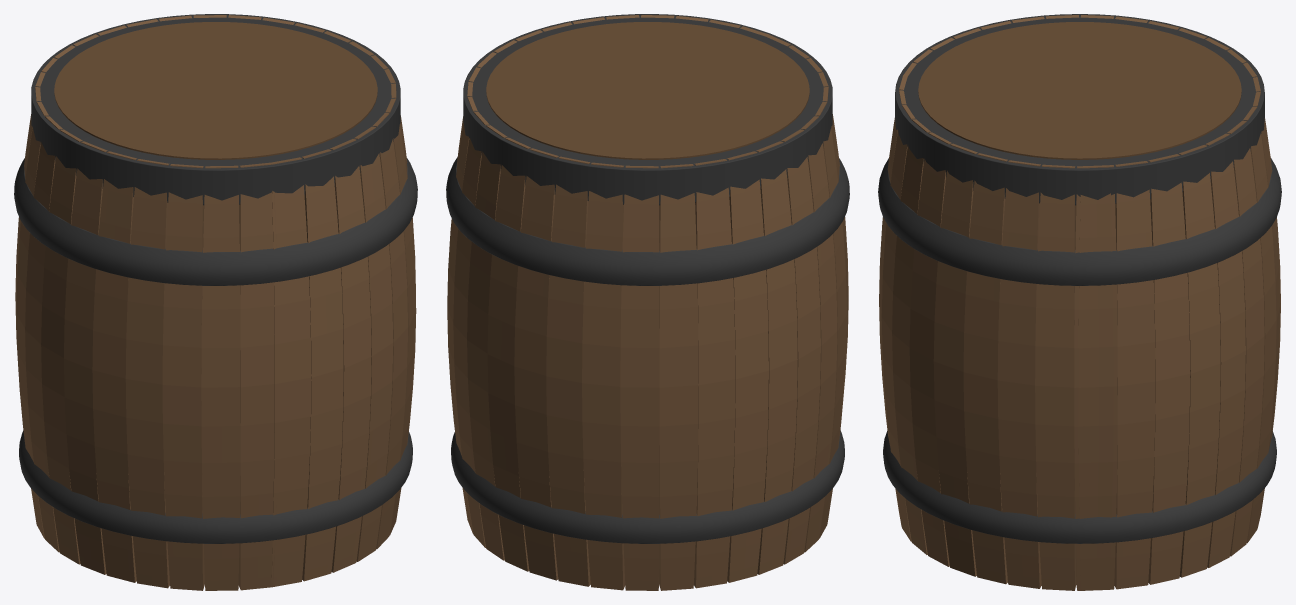
Rendered from Wooden_barrel.fbx.
The picture shows the model from 3 angles, left to right: view 1: azimuth 30°, elevation 25°; view 2: azimuth 150°, elevation 25°; view 3: azimuth 270°, elevation 25°; orthographic projection.
Visible parts, largest first — view 1: Cylinder; view 2: Cylinder; view 3: Cylinder.
Boxes of the visible parts, box(x1,y1,x2,y2) form: Cylinder: box(14, 14, 417, 590); Cylinder: box(446, 14, 849, 590); Cylinder: box(878, 14, 1281, 590).
Bounding box in the file's own units: 239 × 277 × 239.
